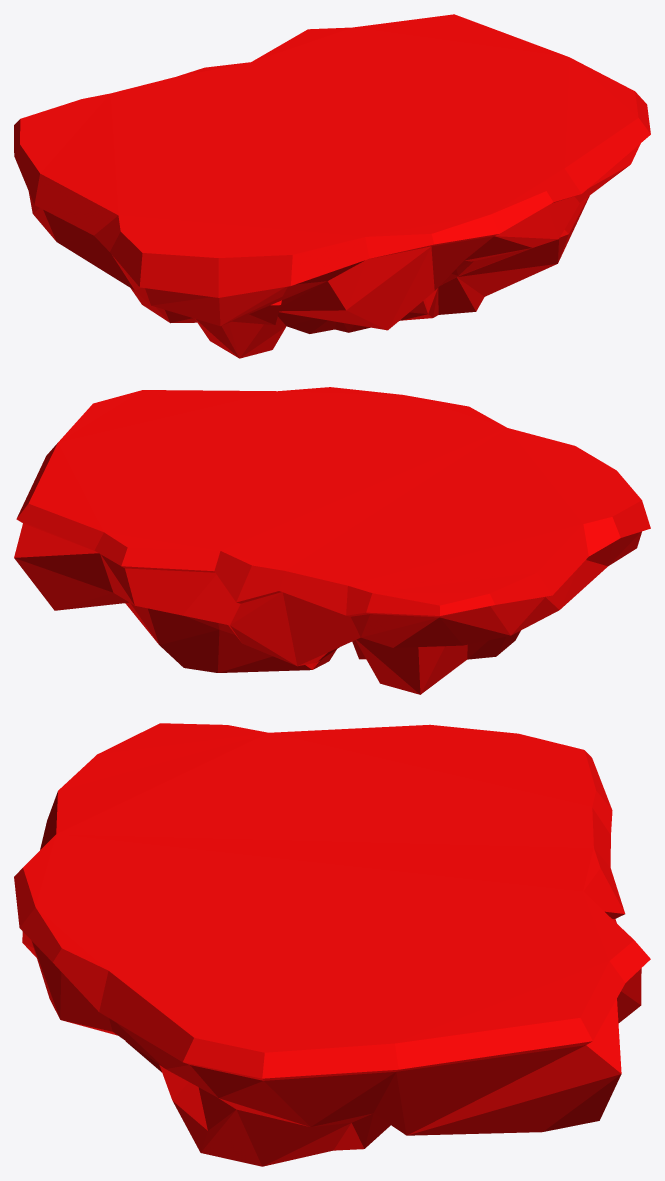
Rendered from SM_Platform_03.fbx.
3 views of the same model, one above another, from view 1: azimuth 30°, elevation 25°; view 2: azimuth 150°, elevation 25°; view 3: azimuth 270°, elevation 25° (orthographic). The views are drawn at different scales.
Visible parts, largest first — view 1: SM_Platform_03; view 2: SM_Platform_03; view 3: SM_Platform_03.
Part boxes in pixels (<box>): SM_Platform_03: <box>14,14,650,358</box>; SM_Platform_03: <box>14,387,650,694</box>; SM_Platform_03: <box>14,723,650,1166</box>.
Bounding box in the file's own units: 673 × 529 × 182.
